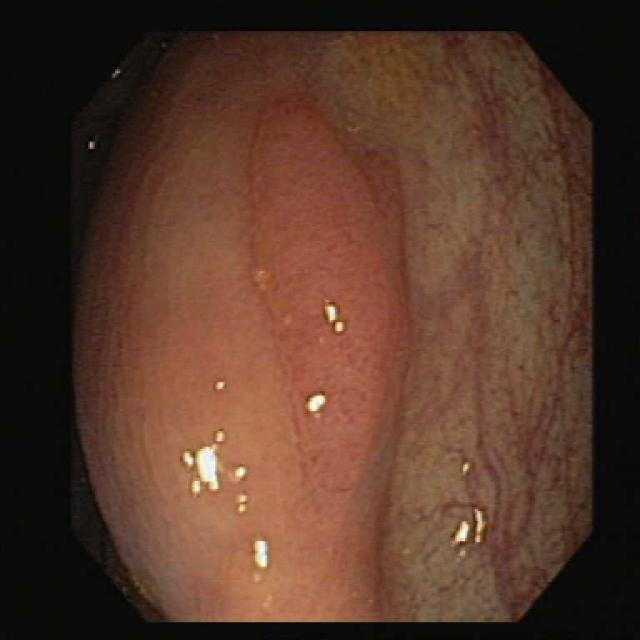tumor: (252, 98, 405, 618)
